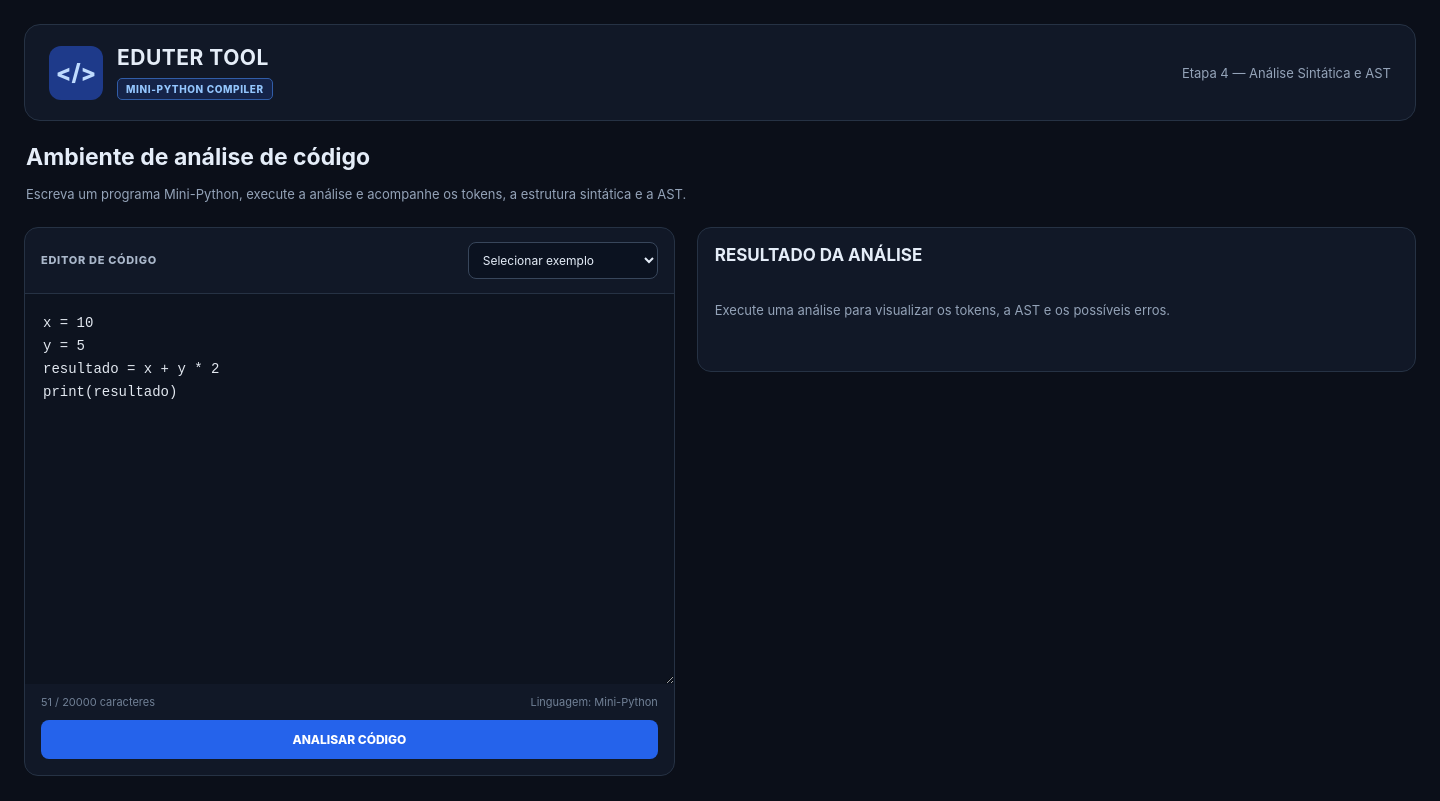
Test case: informa falha de comunicação com o backend
Click the button "ANALISAR CÓDIGO" at (349, 739), box [41,720,658,759]
(page scrolled)
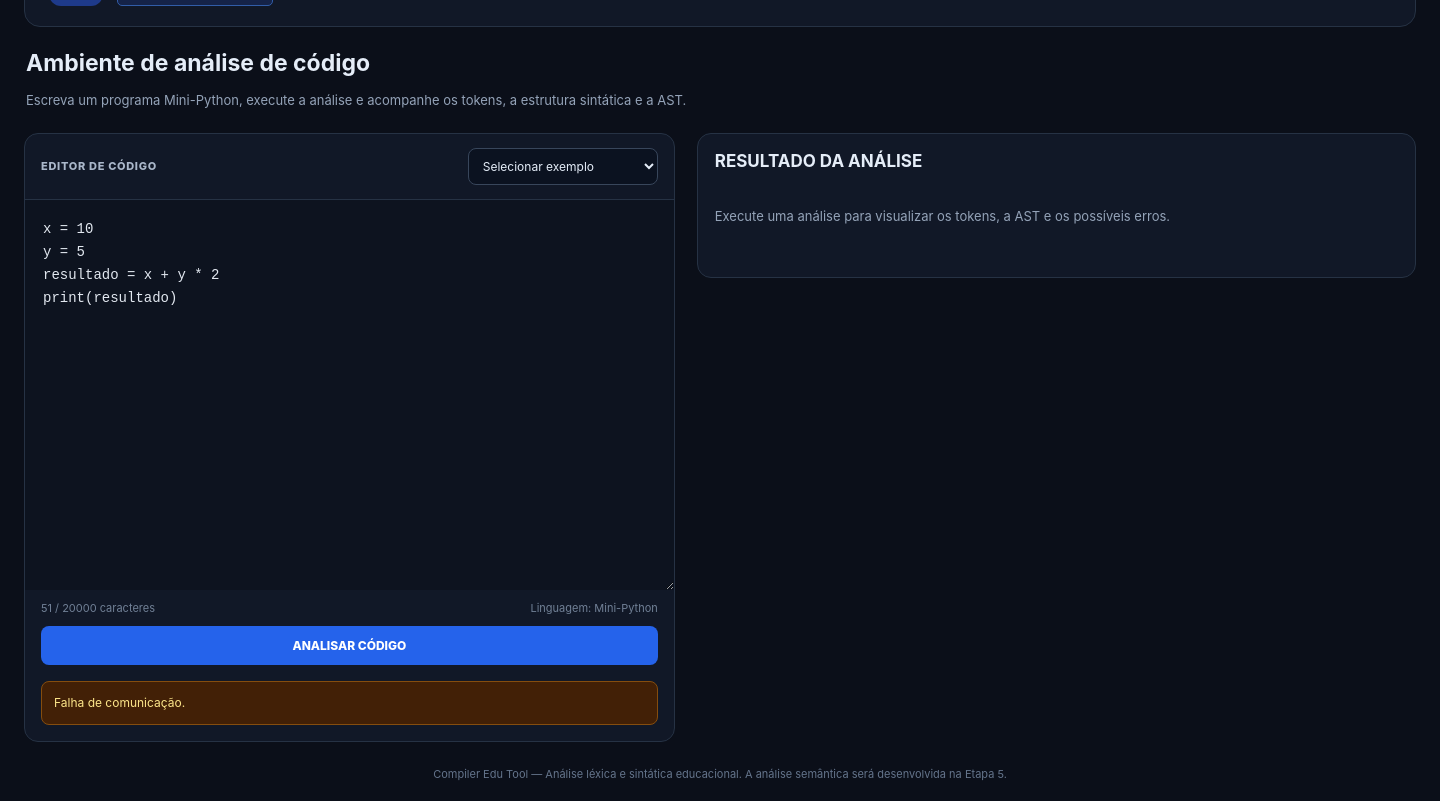
Result: the message reads "Falha de comunicação." at [54,695,185,710]
